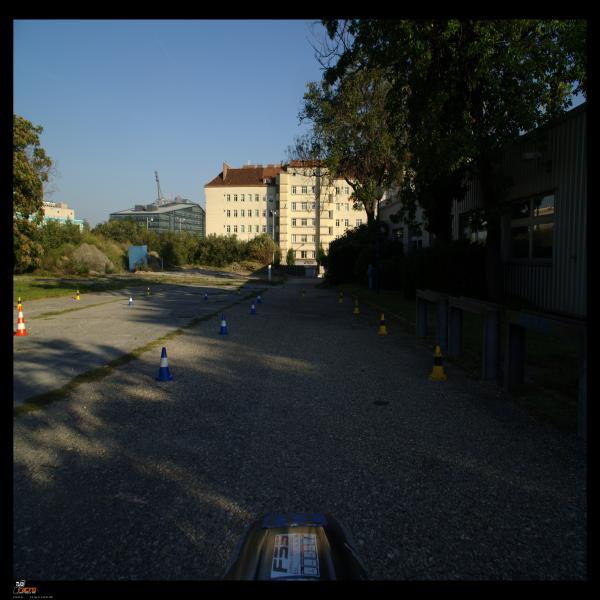blue_cone: (155, 348, 174, 382), (218, 314, 229, 335), (250, 301, 256, 314), (128, 296, 133, 306), (257, 293, 262, 303), (204, 291, 208, 300)
large_orange_cone: (13, 307, 30, 336)
yellow_cone: (428, 346, 448, 381), (378, 314, 388, 334), (353, 300, 360, 314), (16, 297, 23, 309), (338, 292, 344, 303), (76, 290, 81, 300), (302, 288, 306, 297), (146, 287, 150, 295), (238, 286, 241, 294)
